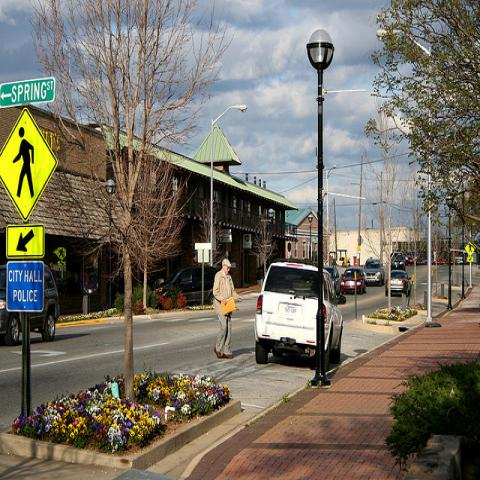car: (249, 260, 348, 363), (0, 264, 60, 346), (158, 265, 218, 311), (385, 269, 412, 298), (340, 267, 364, 294), (363, 258, 386, 286), (324, 267, 342, 294), (390, 252, 406, 272), (454, 250, 466, 264), (407, 250, 418, 261), (403, 252, 413, 264)
